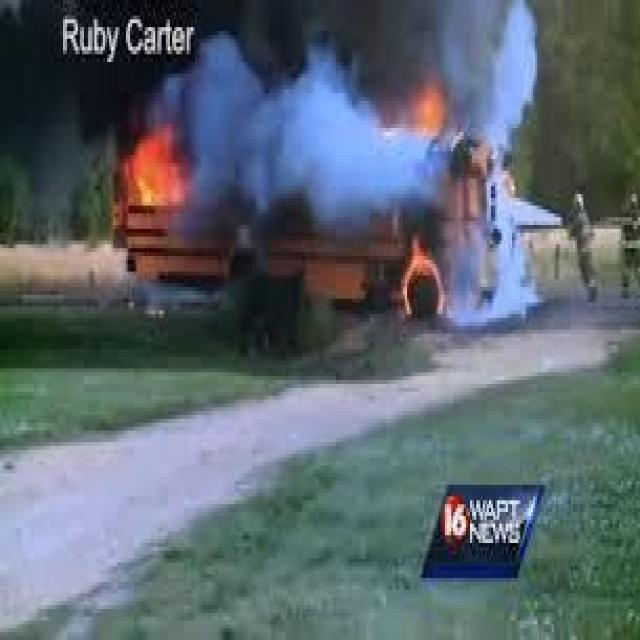fire: (110, 108, 202, 231), (391, 63, 460, 147)
smoke: (135, 2, 532, 212)
